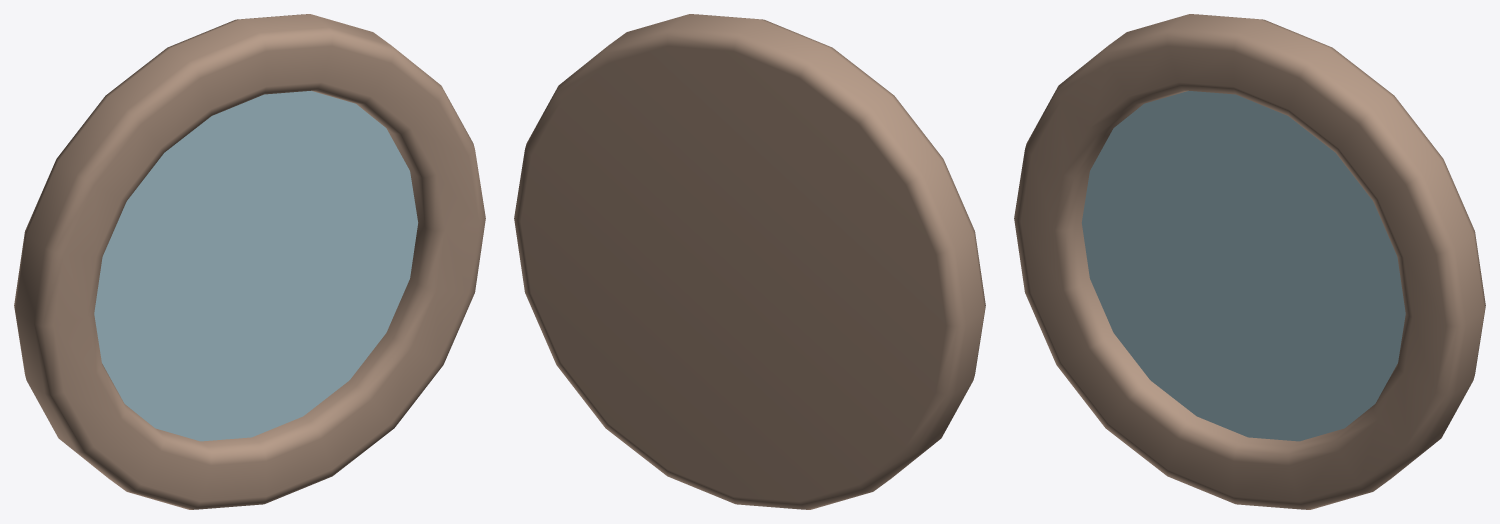
File: Mirror_3.glb
The picture shows the model from 3 angles, left to right: view 1: azimuth 30°, elevation 25°; view 2: azimuth 150°, elevation 25°; view 3: azimuth 330°, elevation 25°; orthographic projection.
Parts seen in each view (by area): view 1: Mirror_3; view 2: Mirror_3; view 3: Mirror_3.
Boxes of the visible parts, bbox=[...] form: Mirror_3: bbox=[14, 14, 485, 509]; Mirror_3: bbox=[514, 14, 985, 509]; Mirror_3: bbox=[1014, 14, 1485, 509].
Size of the model in its own units: 1.19 by 1.19 by 0.1495.
1 material, 1 textured.
